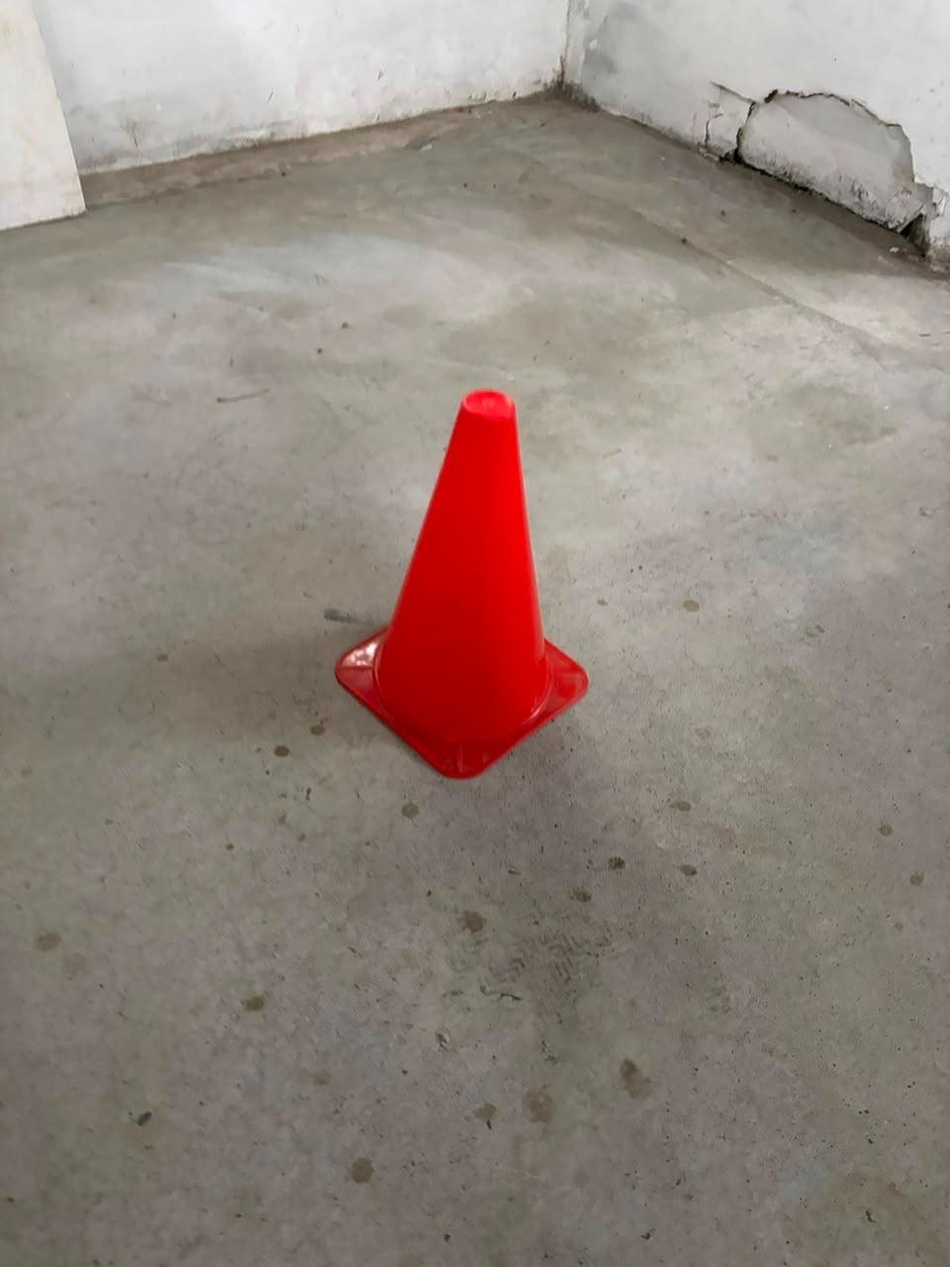0 cone: (336, 390, 586, 778)
